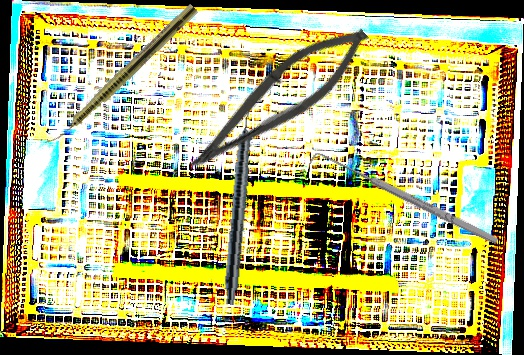Handpiece: (42, 1, 200, 153), (222, 99, 259, 306)
Hook Surgical: (309, 146, 500, 253)
Micro Scissor: (178, 7, 380, 194)
